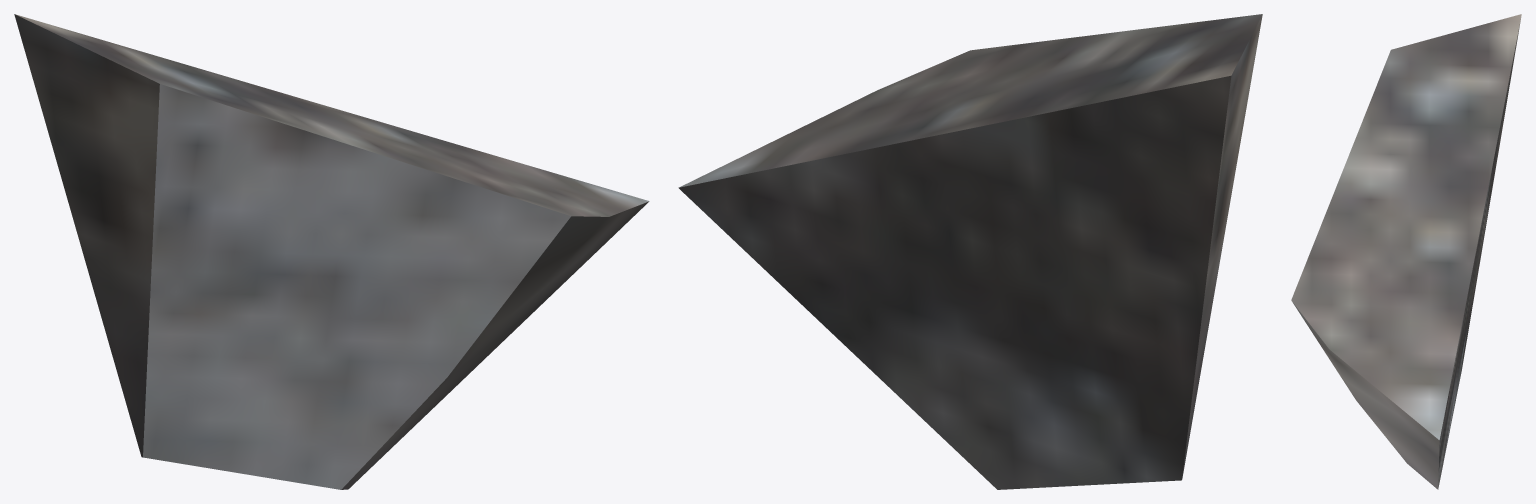
The model's file is Asteroid_Large_001_02_004_03_005.fbx.
3 views of the same model, side by side, from view 1: azimuth 30°, elevation 25°; view 2: azimuth 150°, elevation 25°; view 3: azimuth 270°, elevation 25° (orthographic). The views are drawn at different scales.
Parts seen in each view (by area): view 1: Asteroid_Large_001_02_004_03_005; view 2: Asteroid_Large_001_02_004_03_005; view 3: Asteroid_Large_001_02_004_03_005.
Part boxes in pixels (<box>): Asteroid_Large_001_02_004_03_005: <box>14,14,649,489</box>; Asteroid_Large_001_02_004_03_005: <box>678,14,1262,489</box>; Asteroid_Large_001_02_004_03_005: <box>1291,14,1521,489</box>.
Bounding box in the file's own units: 1.24 × 1.03 × 0.5733.
